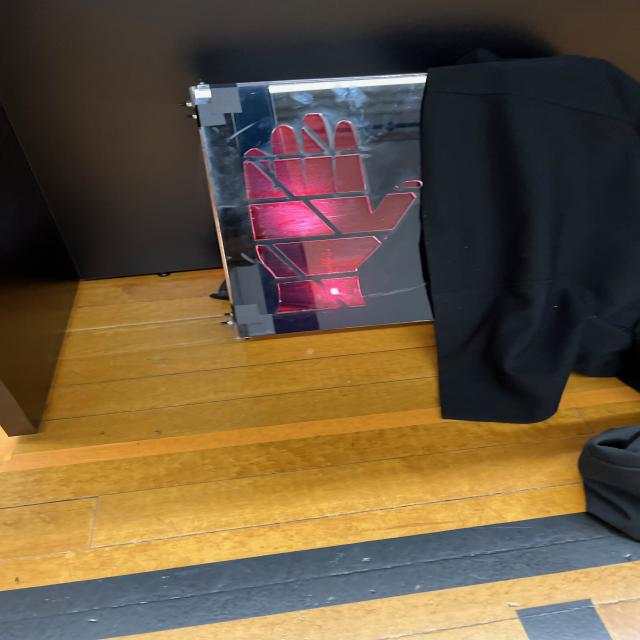stop: (195, 85, 433, 341)
